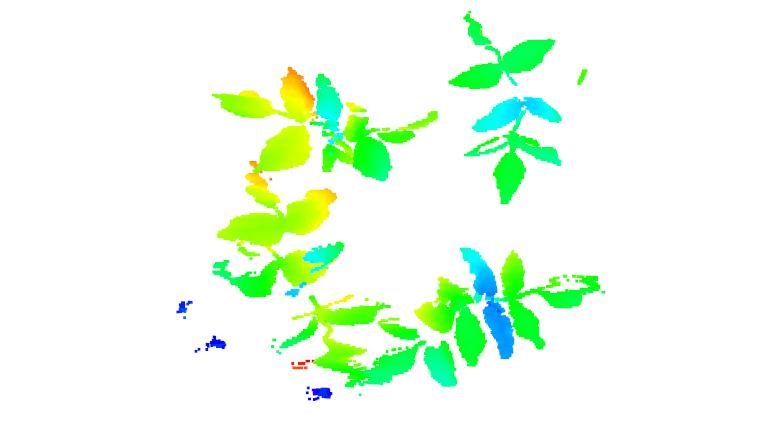mungbean: (212, 174, 387, 391), (361, 243, 603, 392), (208, 65, 438, 180), (449, 9, 570, 203)
